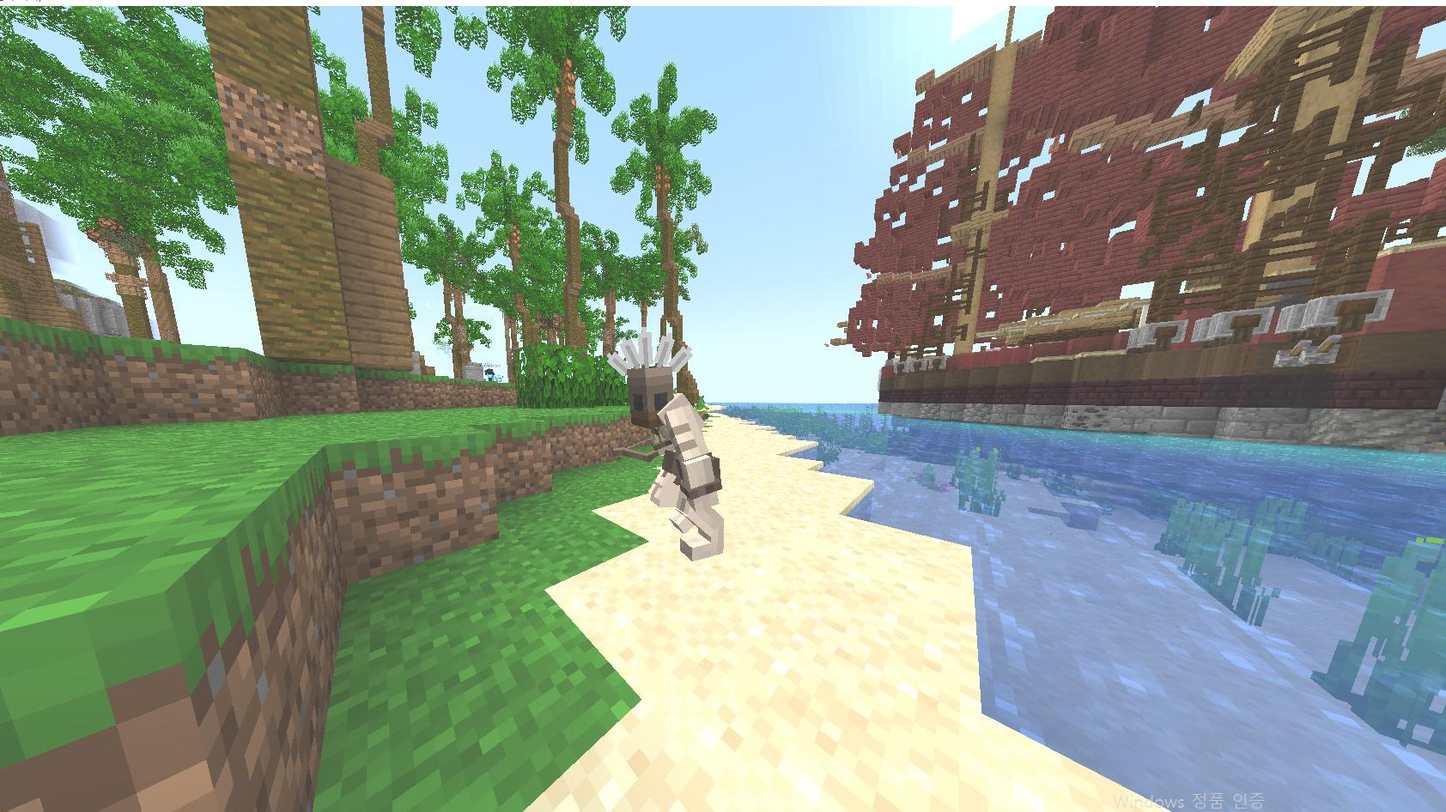bow_indian: (579, 316, 796, 593)
